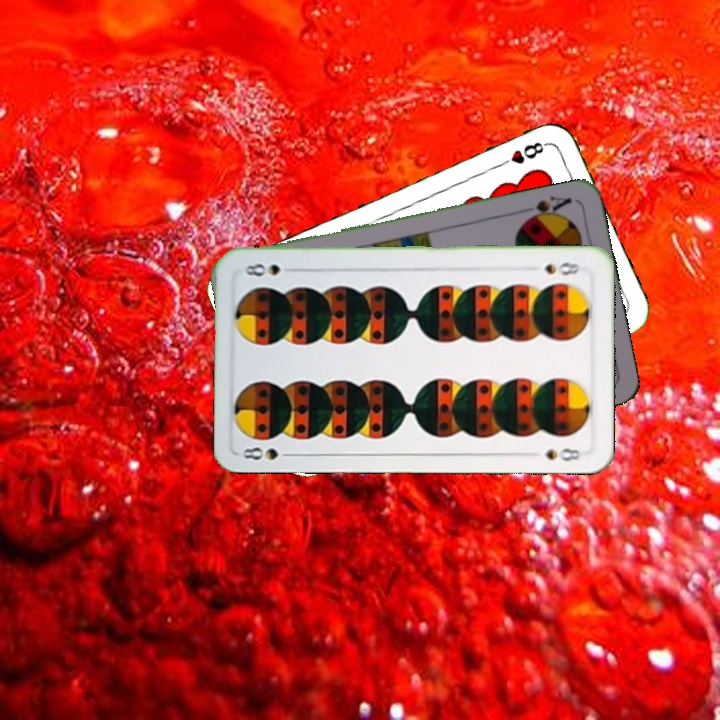H8: (494, 138, 550, 170)
S8: (239, 443, 297, 462), (541, 258, 582, 278)
SA: (517, 192, 574, 225)
